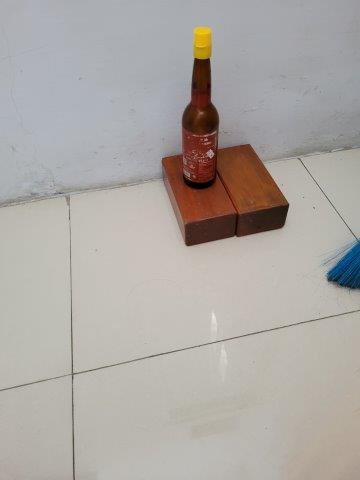botolkaca: (182, 26, 219, 188)
